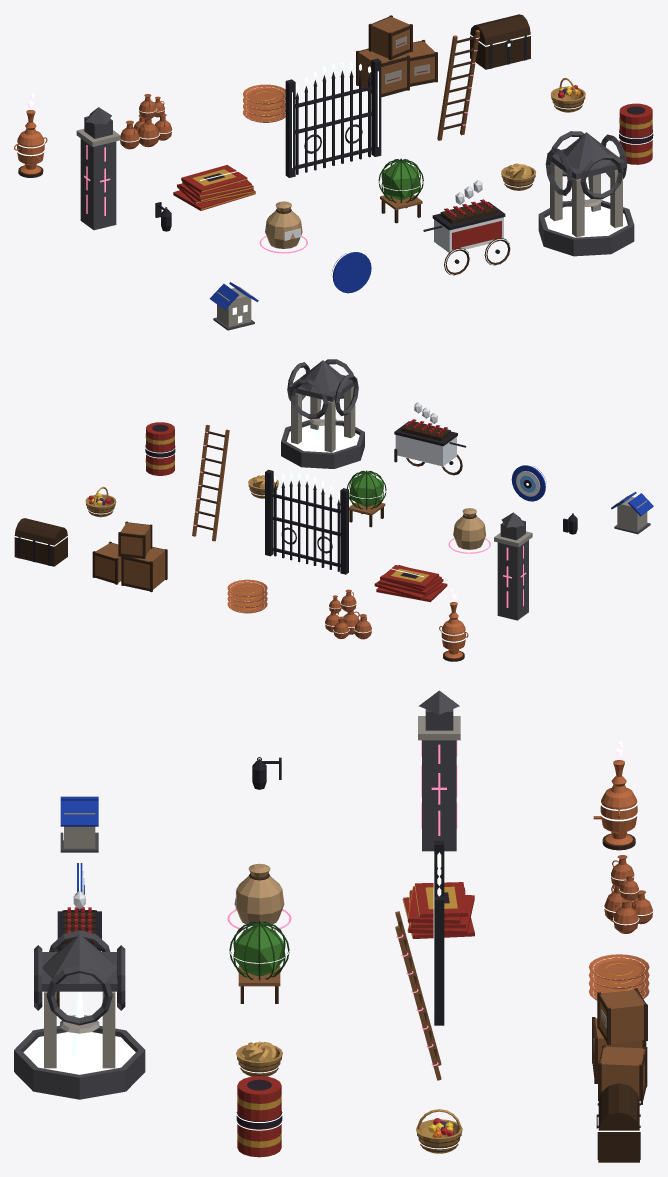
The model's file is DiyarbakirDecor.fbx.
3 views of the same model, one above another, from view 1: azimuth 30°, elevation 25°; view 2: azimuth 150°, elevation 25°; view 3: azimuth 270°, elevation 25° (orthographic). The views are drawn at different scales.
Visible parts, largest first — view 1: Decor_Fountain, Decor_IronGate, Decor_Crates, Decor_CarvedPillar, Decor_KebabCart, Decor_Chest, Decor_KilimPile, Decor_Watermelon, Decor_RolledCarpet, Decor_CopperJugs, Decor_Ladder, Decor_Birdhouse (+6 smaller); view 2: Decor_Fountain, Decor_IronGate, Decor_Crates, Decor_CarvedPillar, Decor_KebabCart, Decor_Chest, Decor_KilimPile, Decor_RolledCarpet, Decor_Watermelon, Decor_CopperJugs, Decor_Ladder, Decor_CopperPlates (+5 smaller); view 3: Decor_Fountain, Decor_CarvedPillar, Decor_Crates, Decor_RolledCarpet, Decor_Chest, Decor_Watermelon, Decor_KilimPile, Decor_Samovar, Decor_Sack, Decor_CopperJugs, Decor_CopperPlates, Decor_IronGate (+5 smaller).
Boxes of the visible parts, bbox=[...] form: Decor_Fountain: bbox=[538, 131, 634, 256]; Decor_IronGate: bbox=[285, 58, 381, 177]; Decor_Crates: bbox=[356, 15, 437, 97]; Decor_CarvedPillar: bbox=[76, 107, 120, 230]; Decor_KebabCart: bbox=[423, 180, 510, 275]; Decor_Chest: bbox=[469, 14, 531, 69]; Decor_KilimPile: bbox=[173, 165, 255, 210]; Decor_Watermelon: bbox=[378, 158, 423, 223]; Decor_RolledCarpet: bbox=[618, 103, 653, 164]; Decor_CopperJugs: bbox=[120, 94, 172, 149]; Decor_Ladder: bbox=[437, 29, 480, 140]; Decor_Birdhouse: bbox=[209, 282, 258, 330]; Decor_Fountain: bbox=[281, 359, 364, 468]; Decor_IronGate: bbox=[265, 469, 348, 574]; Decor_Crates: bbox=[92, 521, 167, 592]; Decor_CarvedPillar: bbox=[494, 512, 532, 620]; Decor_KebabCart: bbox=[394, 402, 466, 475]; Decor_Chest: bbox=[14, 518, 68, 566]; Decor_KilimPile: bbox=[374, 565, 447, 602]; Decor_RolledCarpet: bbox=[144, 422, 175, 475]; Decor_Watermelon: bbox=[347, 470, 386, 527]; Decor_CopperJugs: bbox=[324, 589, 372, 639]; Decor_Ladder: bbox=[192, 425, 229, 541]; Decor_CopperPlates: bbox=[227, 579, 267, 613]; Decor_Fountain: bbox=[14, 930, 145, 1099]; Decor_CarvedPillar: bbox=[418, 690, 460, 851]; Decor_Crates: bbox=[592, 988, 647, 1104]; Decor_RolledCarpet: bbox=[236, 1076, 283, 1157]; Decor_Chest: bbox=[595, 1083, 640, 1162]; Decor_Watermelon: bbox=[229, 921, 289, 1003]; Decor_KilimPile: bbox=[402, 882, 474, 938]; Decor_Samovar: bbox=[593, 740, 638, 850]; Decor_Sack: bbox=[227, 863, 291, 930]; Decor_CopperJugs: bbox=[603, 855, 653, 933]; Decor_CopperPlates: bbox=[588, 954, 649, 1000]; Decor_IronGate: bbox=[433, 840, 444, 1025].
Bounding box in the file's own units: 11.3 × 2.47 × 9.25.
